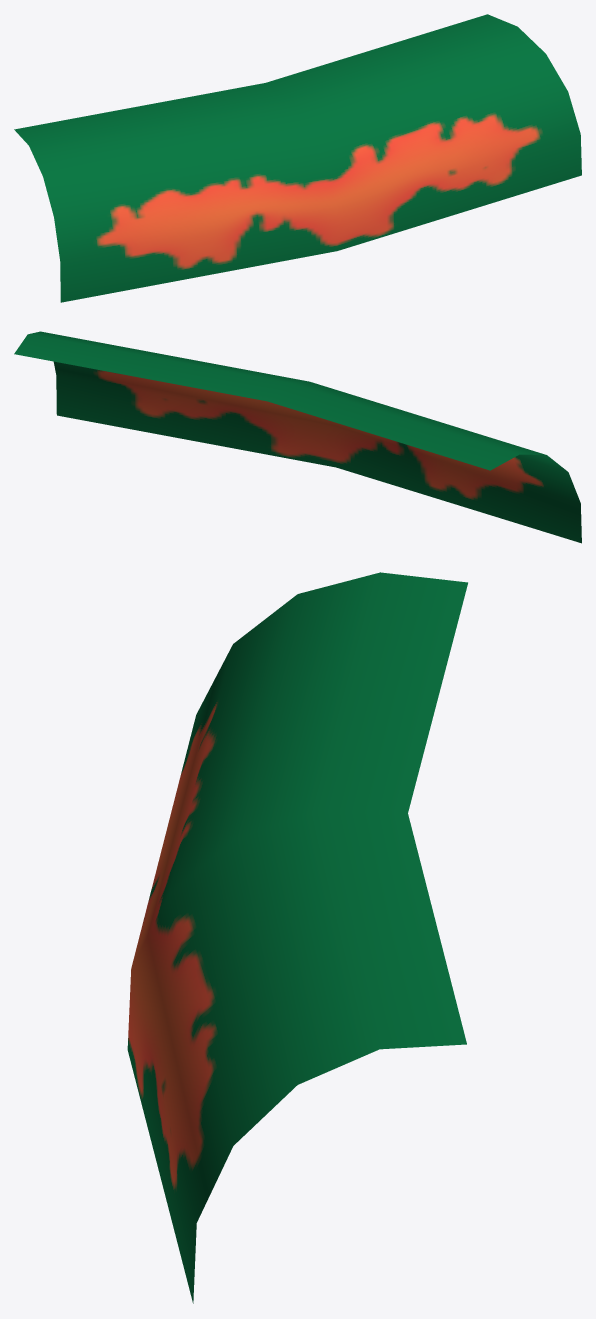
The model's file is p_mesh_trashbot_slimewave_splashplane01.fbx.
3 views of the same model, one above another, from view 1: azimuth 30°, elevation 25°; view 2: azimuth 150°, elevation 25°; view 3: azimuth 270°, elevation 25° (orthographic). The views are drawn at different scales.
Visible parts, largest first — view 1: p_trashbot_slimewave_splashplane01; view 2: p_trashbot_slimewave_splashplane01; view 3: p_trashbot_slimewave_splashplane01.
Boxes of the visible parts, x1,y1,x2,y2 form: p_trashbot_slimewave_splashplane01: (14,14,581,302); p_trashbot_slimewave_splashplane01: (14,331,581,543); p_trashbot_slimewave_splashplane01: (127,572,467,1303).
Size of the model in its own units: 24.7 by 5.39 by 6.99.
